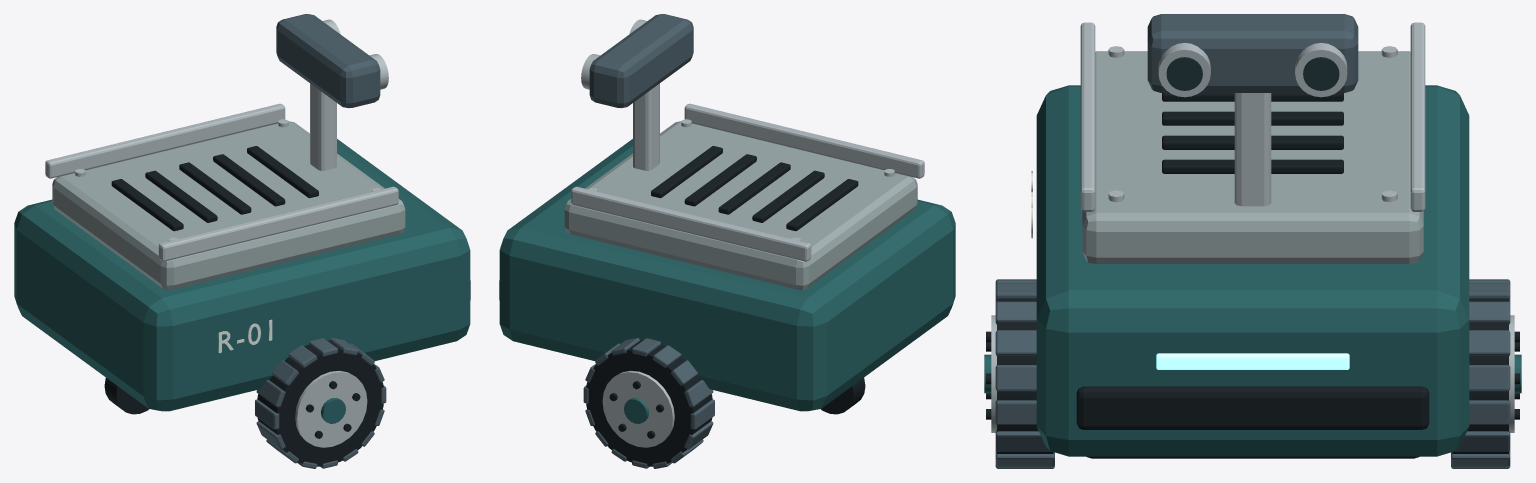
File: rover.glb
The picture shows the model from 3 angles, left to right: view 1: azimuth 30°, elevation 25°; view 2: azimuth 150°, elevation 25°; view 3: azimuth 270°, elevation 25°; orthographic projection. The views are drawn at different scales.
Visible parts, largest first — view 1: rover_static_paint-teal, rover_static_panel-light, rover_static_alloy, rover_static_paint-slate, rover_static_rubber, rover_Wheel_Right_rubber, rover_Wheel_Right_paint-slate, rover_Wheel_Right_alloy, rover_Wheel_Right_paint-teal, rover_static_white; view 2: rover_static_paint-teal, rover_static_panel-light, rover_static_alloy, rover_static_paint-slate, rover_static_rubber, rover_Wheel_Left_rubber, rover_Wheel_Left_paint-slate, rover_Wheel_Left_alloy, rover_Wheel_Left_paint-teal; view 3: rover_static_paint-teal, rover_static_panel-light, rover_static_rubber, rover_static_alloy, rover_static_paint-slate, rover_Wheel_Left_paint-slate, rover_Wheel_Right_paint-slate, rover_static_cyan-light, rover_Wheel_Left_rubber, rover_Wheel_Right_rubber, rover_static_screen, rover_Wheel_Left_alloy (+1 smaller).
Boxes of the visible parts, left/top/right/bottom form: rover_static_paint-teal: left=14, top=139, right=470, bottom=411; rover_static_panel-light: left=52, top=121, right=405, bottom=289; rover_static_alloy: left=45, top=19, right=398, bottom=261; rover_static_paint-slate: left=276, top=14, right=380, bottom=108; rover_static_rubber: left=104, top=146, right=470, bottom=414; rover_Wheel_Right_rubber: left=257, top=340, right=383, bottom=466; rover_Wheel_Right_paint-slate: left=255, top=338, right=386, bottom=468; rover_Wheel_Right_alloy: left=295, top=370, right=367, bottom=447; rover_Wheel_Right_paint-teal: left=321, top=398, right=345, bottom=423; rover_static_white: left=218, top=319, right=272, bottom=353; rover_static_paint-teal: left=499, top=139, right=955, bottom=411; rover_static_panel-light: left=564, top=121, right=917, bottom=289; rover_static_alloy: left=571, top=19, right=924, bottom=261; rover_static_paint-slate: left=589, top=14, right=693, bottom=108; rover_static_rubber: left=499, top=146, right=865, bottom=414; rover_Wheel_Left_rubber: left=586, top=340, right=712, bottom=466; rover_Wheel_Left_paint-slate: left=583, top=338, right=714, bottom=468; rover_Wheel_Left_alloy: left=602, top=370, right=674, bottom=447; rover_Wheel_Left_paint-teal: left=624, top=398, right=648, bottom=423; rover_static_paint-teal: left=1036, top=85, right=1469, bottom=456; rover_static_panel-light: left=1082, top=51, right=1423, bottom=263; rover_static_rubber: left=1076, top=93, right=1429, bottom=458; rover_static_alloy: left=1080, top=22, right=1425, bottom=211; rover_static_paint-slate: left=1147, top=14, right=1358, bottom=92; rover_Wheel_Left_paint-slate: left=1451, top=279, right=1510, bottom=468; rover_Wheel_Right_paint-slate: left=995, top=279, right=1054, bottom=468; rover_static_cyan-light: left=1156, top=353, right=1349, bottom=369; rover_Wheel_Left_rubber: left=1452, top=298, right=1519, bottom=453; rover_Wheel_Right_rubber: left=986, top=298, right=1053, bottom=453; rover_static_screen: left=1166, top=57, right=1339, bottom=90; rover_Wheel_Left_alloy: left=1509, top=315, right=1514, bottom=432.
Bounding box in the file's own units: 0.497 × 0.483 × 0.472.
